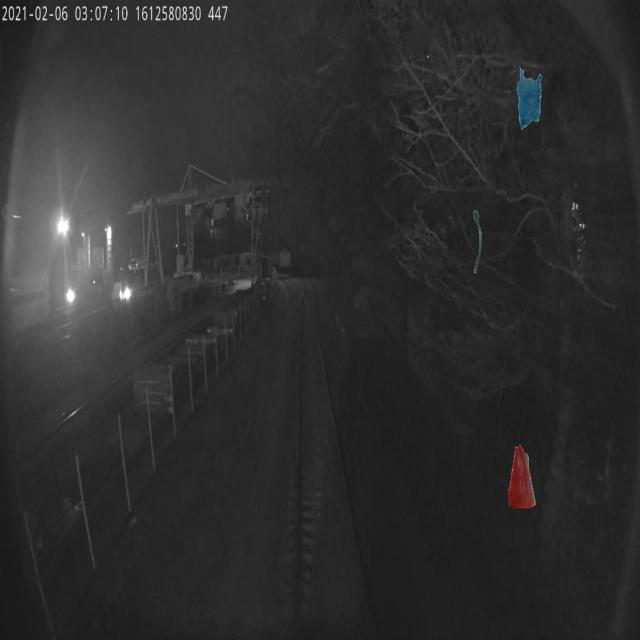floating object: (474, 207, 484, 271)
plastic bag: (508, 444, 535, 508), (517, 66, 542, 130)
